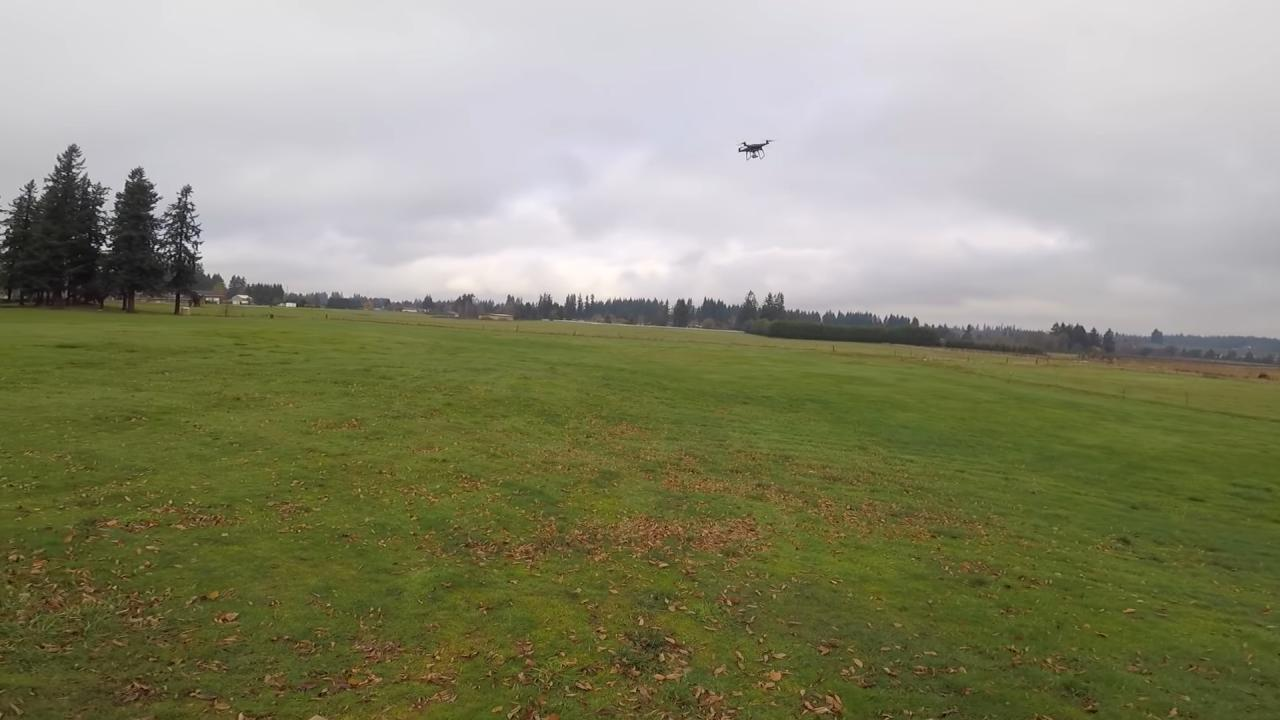Drone: (732, 133, 775, 169)
